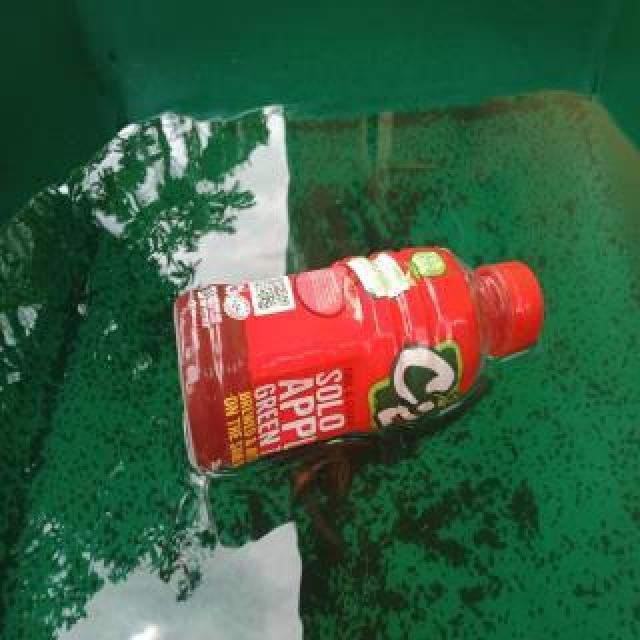bottle: (172, 240, 546, 474)
